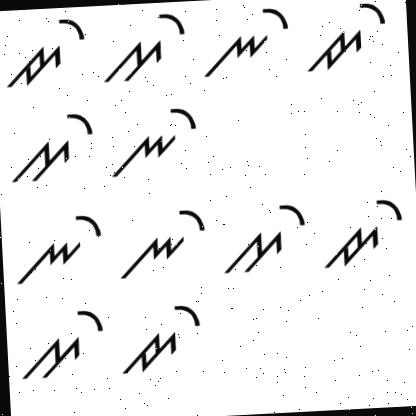jay: (316, 187, 408, 278), (119, 300, 208, 382), (297, 0, 389, 78), (0, 12, 88, 89)
nyay: (107, 95, 202, 184), (200, 0, 292, 85), (115, 203, 208, 286), (12, 208, 106, 288)
say: (218, 196, 309, 280), (5, 104, 97, 184), (99, 7, 191, 87), (18, 306, 110, 381)
